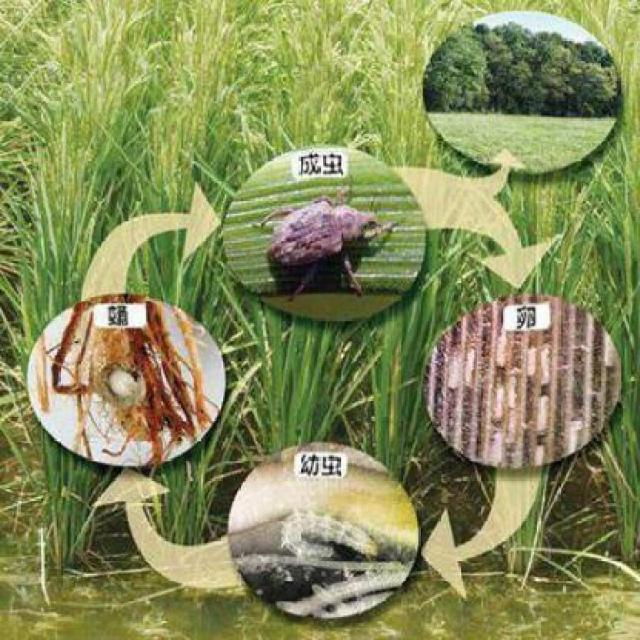rice-bug: (265, 186, 384, 300)
